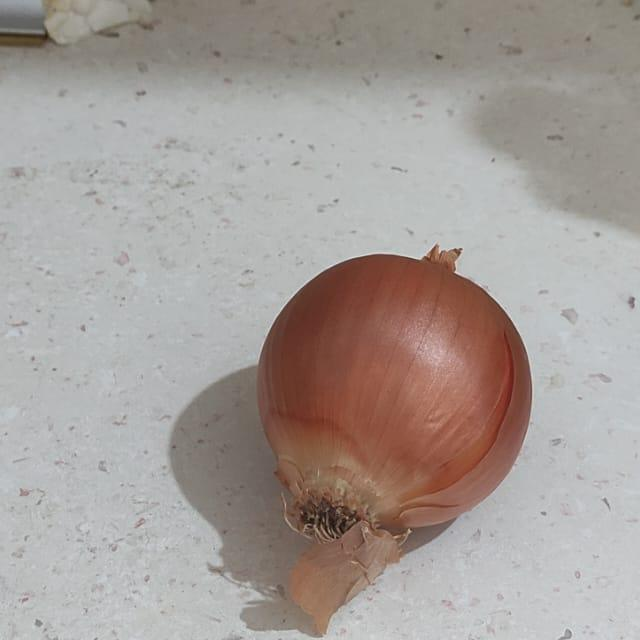onion: (220, 239, 583, 629)
